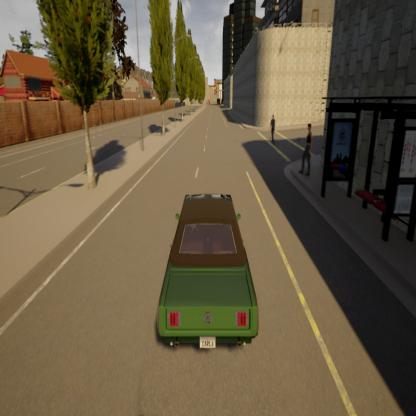Cars: (154, 180, 268, 353)
Pedestrian: (302, 120, 314, 185), (267, 109, 281, 146)
